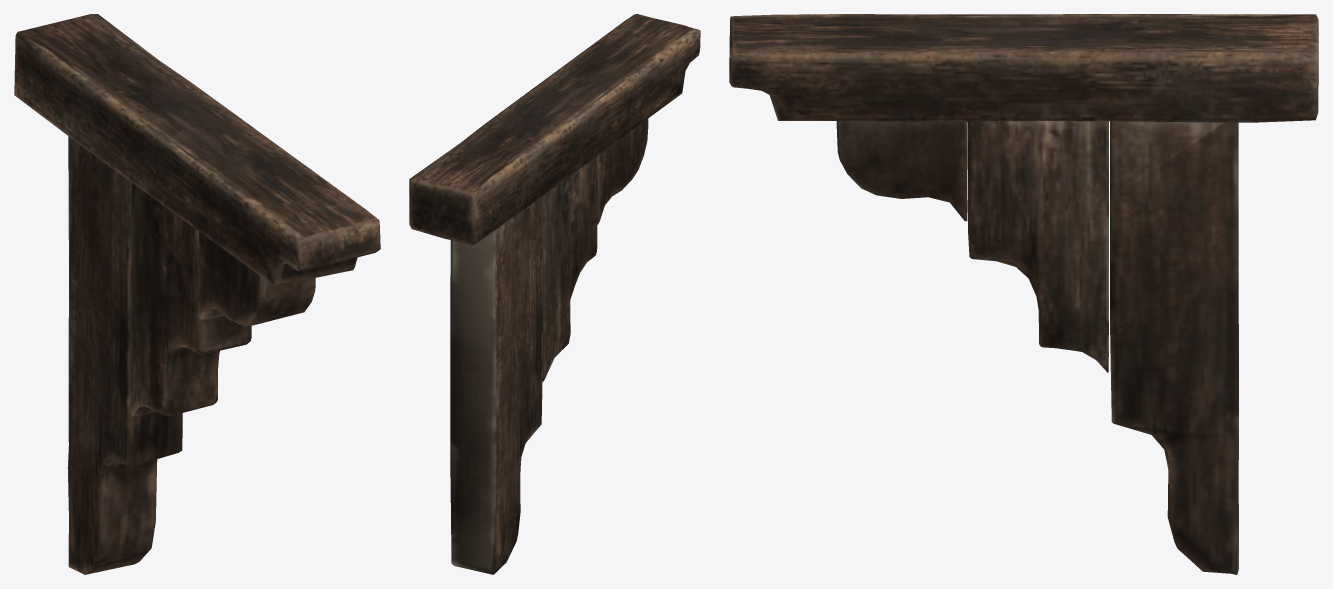
File: Support_Wood_A_001.fbx
3 renders of one model, left to right at view 1: azimuth 30°, elevation 25°; view 2: azimuth 150°, elevation 25°; view 3: azimuth 270°, elevation 25°, orthographic. The views are drawn at different scales.
Parts seen in each view (by area): view 1: Support_Wood_A_001; view 2: Support_Wood_A_001; view 3: Support_Wood_A_001.
Boxes of the visible parts, x1,y1,x2,y2 form: Support_Wood_A_001: (14,14,380,574); Support_Wood_A_001: (409,14,700,574); Support_Wood_A_001: (729,14,1318,574).
Bounding box in the file's own units: 14.77 × 85.2 × 86.05.
Materials: 1 (1 with a texture image).
